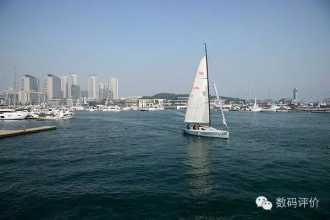fanchuan: (182, 39, 235, 144)
